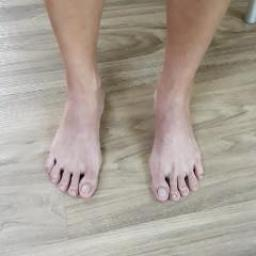Dorsal View -Both Feet-: (38, 66, 212, 216)
